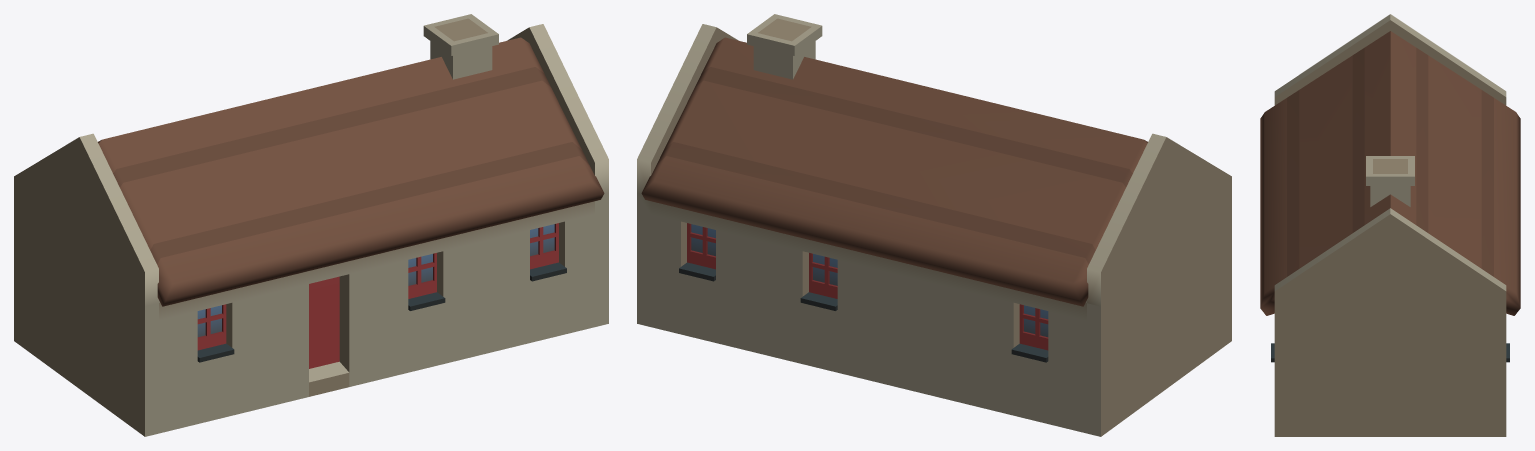
3 renders of one model, left to right at view 1: azimuth 30°, elevation 25°; view 2: azimuth 150°, elevation 25°; view 3: azimuth 270°, elevation 25°, orthographic. The views are drawn at different scales.
Parts seen in each view (by area): view 1: base.148; view 2: base.148; view 3: base.148.
Part boxes in pixels (x1,y1,x2,y2): base.148: (14,14,608,436); base.148: (637,14,1231,436); base.148: (1260,14,1520,436).
Size of the model in its own units: 0.5 by 0.2739 by 0.2752.
